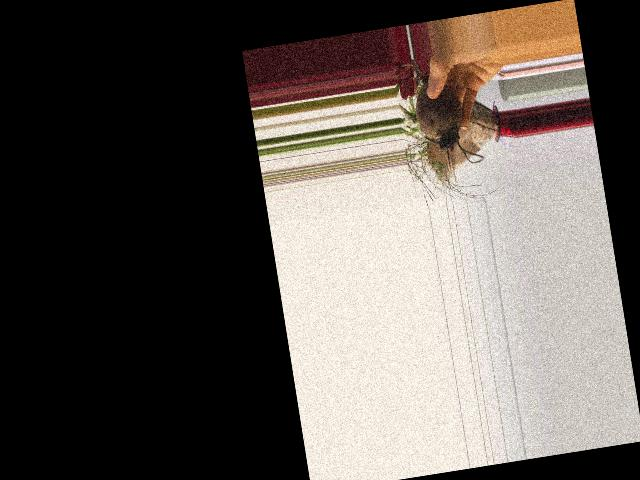beet: (401, 54, 484, 172)
